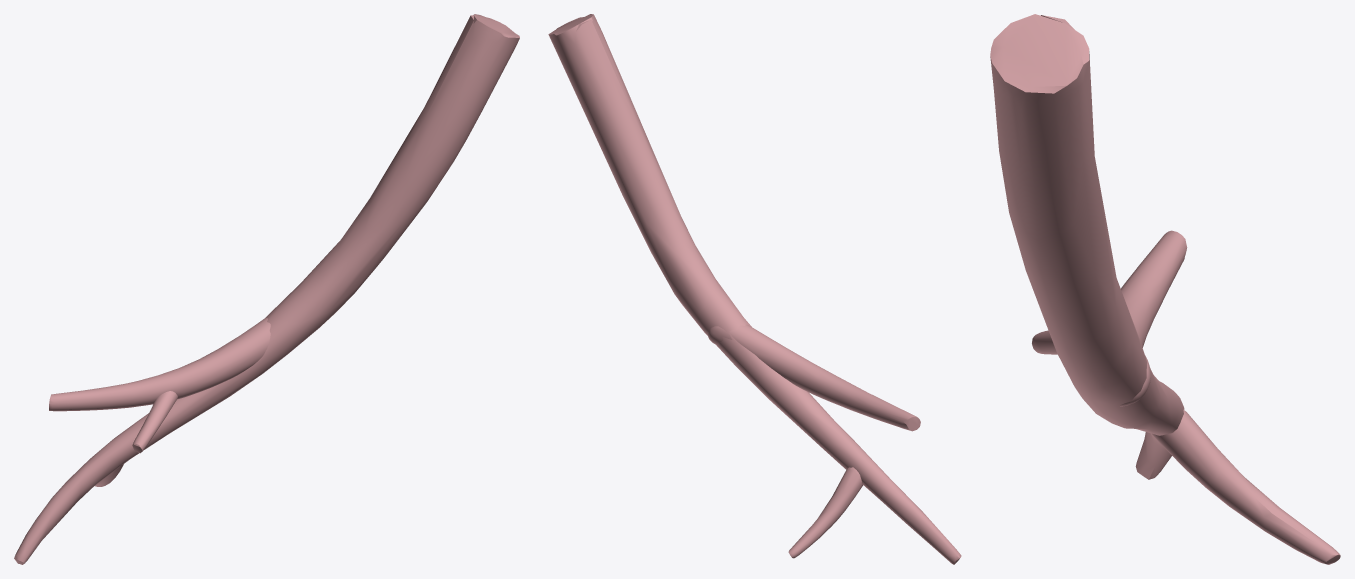
Rendered from fma68220_cx158.glb.
The picture shows the model from 3 angles, left to right: view 1: azimuth 30°, elevation 25°; view 2: azimuth 150°, elevation 25°; view 3: azimuth 270°, elevation 25°; orthographic projection. The views are drawn at different scales.
Parts seen in each view (by area): view 1: FMA68220_CX158; view 2: FMA68220_CX158; view 3: FMA68220_CX158.
Part boxes in pixels (x1=…): FMA68220_CX158: x1=14, y1=14, x2=519, y2=564; FMA68220_CX158: x1=548, y1=14, x2=961, y2=564; FMA68220_CX158: x1=990, y1=14, x2=1340, y2=564.
Bounding box in the file's own units: 0.0689 × 0.065 × 0.0247.
